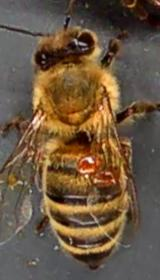varroa_mite: (70, 145, 104, 174), (88, 165, 116, 192)
